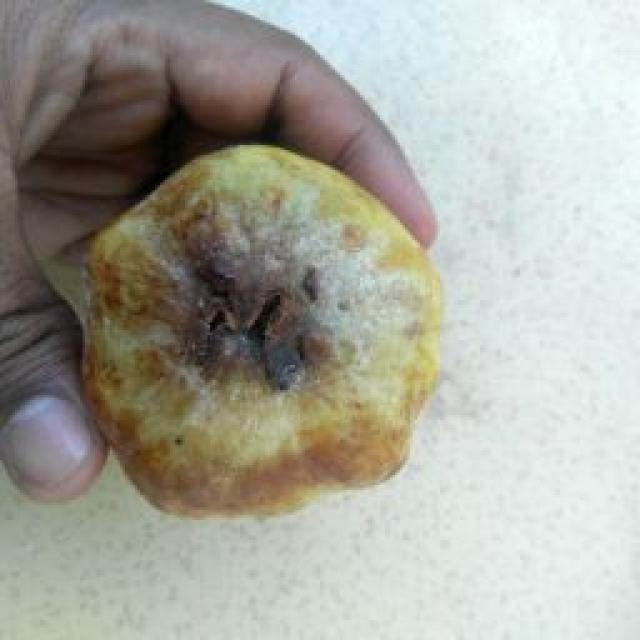Bad_Guava: (82, 145, 440, 516)
